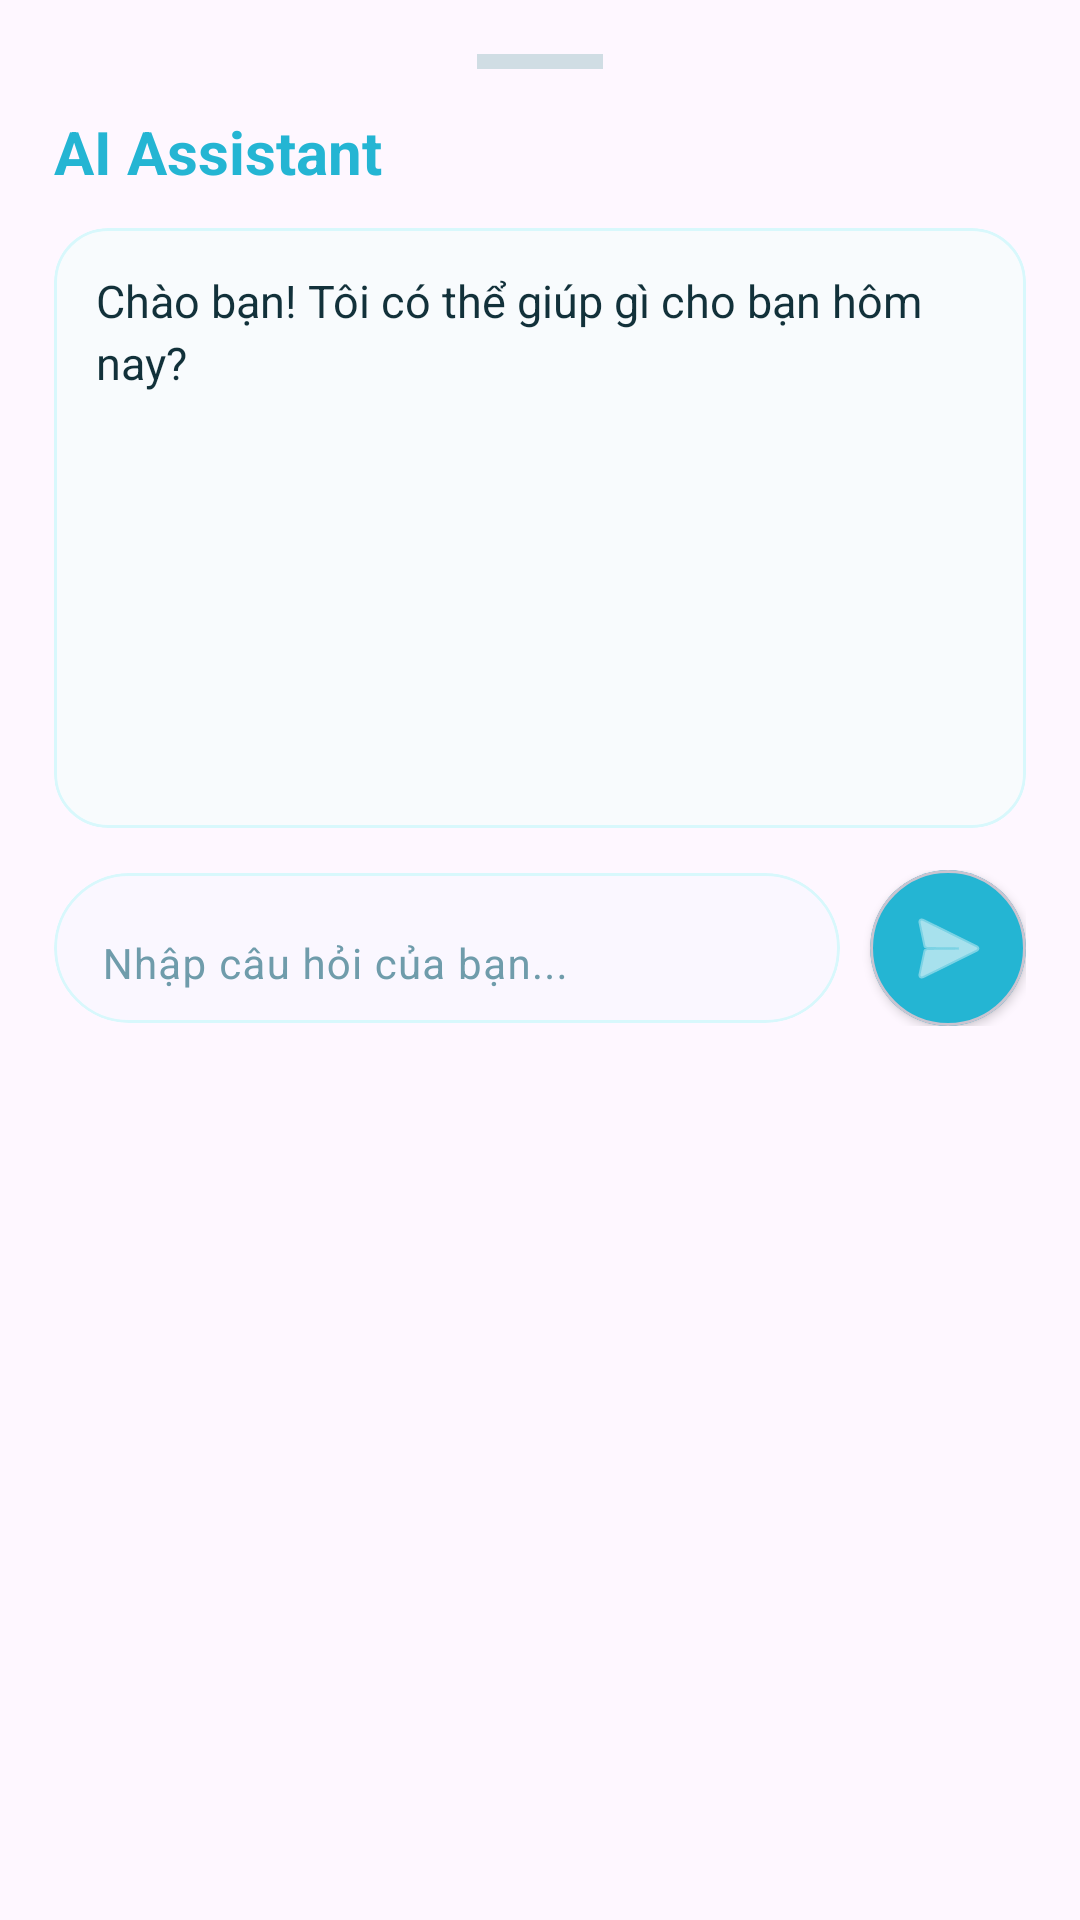

Where to tap for icons on this 1080 x 1920 app screen, as point (x, y):
send: point (948, 948)
